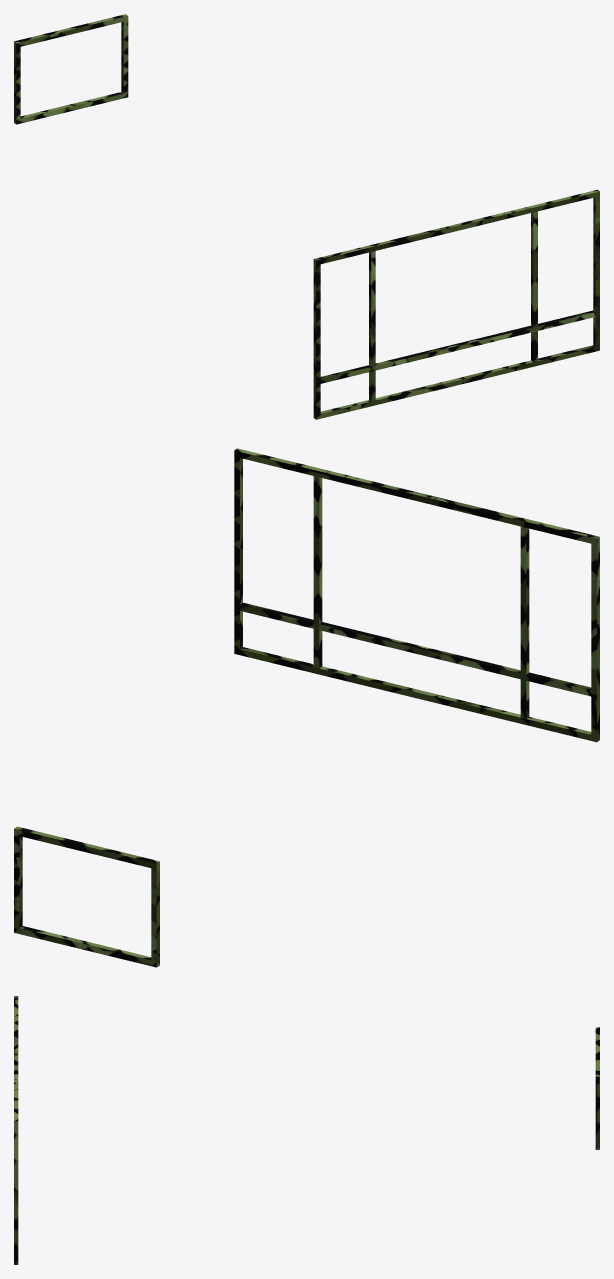
Rendered from modern_scandinavian_kitchen_island_4.obj.
3 renders of one model, top to bottom at view 1: azimuth 30°, elevation 25°; view 2: azimuth 150°, elevation 25°; view 3: azimuth 270°, elevation 25°, orthographic. The views are drawn at different scales.
Bounding box in the file's own units: 4.49 × 2.41 × 8.89.
